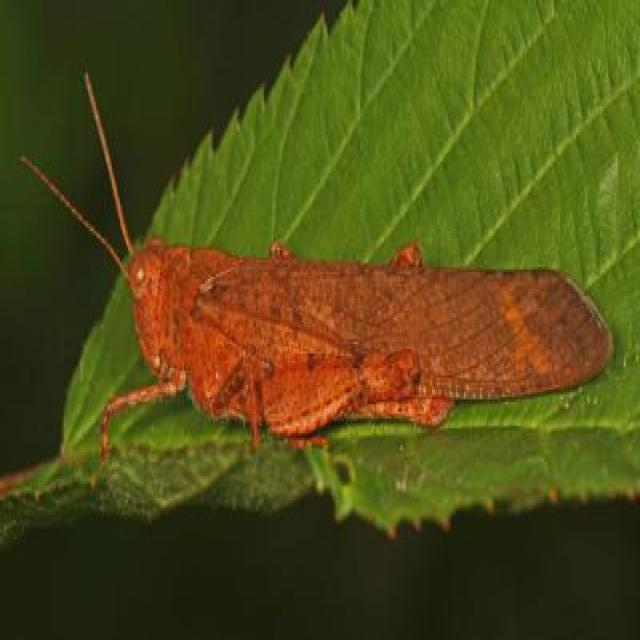antennae: (20, 153, 134, 280), (83, 72, 136, 258)
body: (130, 246, 451, 428)
insect: (17, 72, 615, 468)
legs: (270, 348, 416, 459), (96, 362, 188, 470), (235, 364, 271, 455)
wings: (211, 259, 615, 396)
